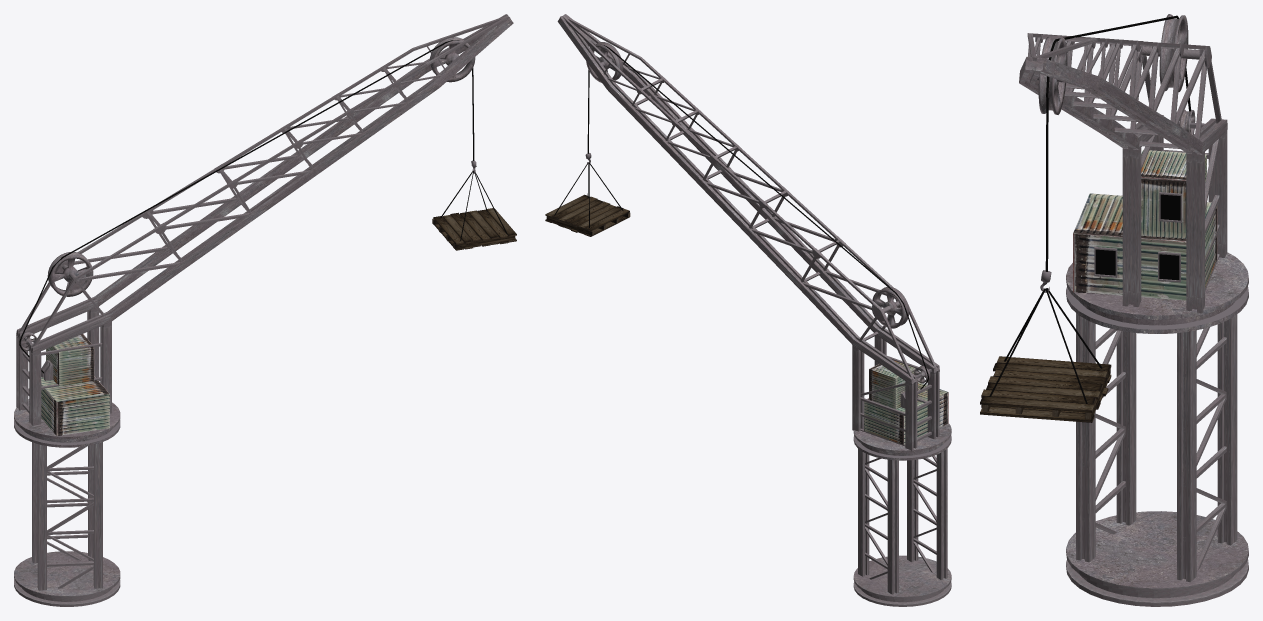
File: IndustryCrane1.obj
3 renders of one model, left to right at view 1: azimuth 30°, elevation 25°; view 2: azimuth 150°, elevation 25°; view 3: azimuth 270°, elevation 25°, orthographic. The views are drawn at different scales.
Parts seen in each view (by area): view 1: harbourCranos_Cube.046; view 2: harbourCranos_Cube.046; view 3: harbourCranos_Cube.046.
Part boxes in pixels (x1,y1,x2,y2): harbourCranos_Cube.046: [14, 14, 516, 606]; harbourCranos_Cube.046: [545, 14, 951, 606]; harbourCranos_Cube.046: [980, 14, 1248, 606].
Bounding box in the file's own units: 7.25 × 7.54 × 2.16.
